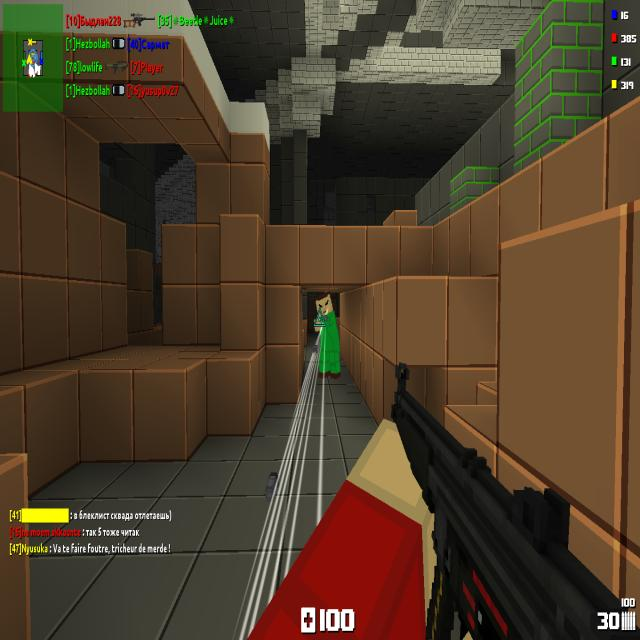enemy: (313, 291, 341, 380)
